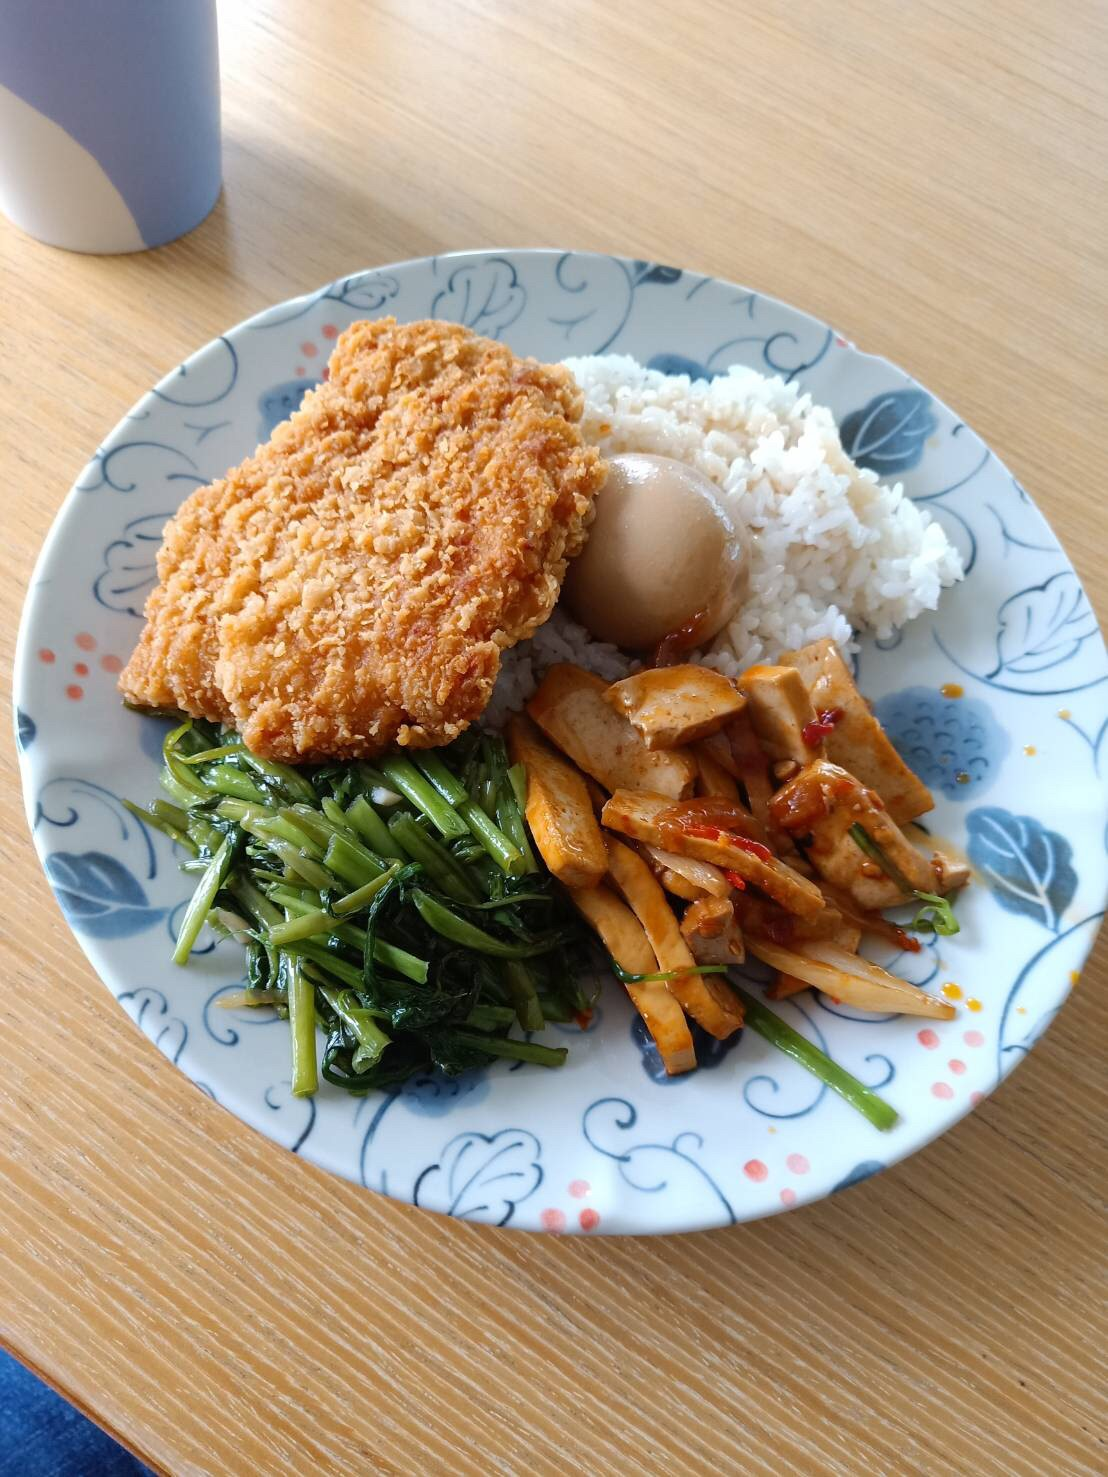fried_chicken: (132, 308, 587, 757)
rice: (631, 365, 910, 675)
water_spinach: (162, 737, 532, 1096)
